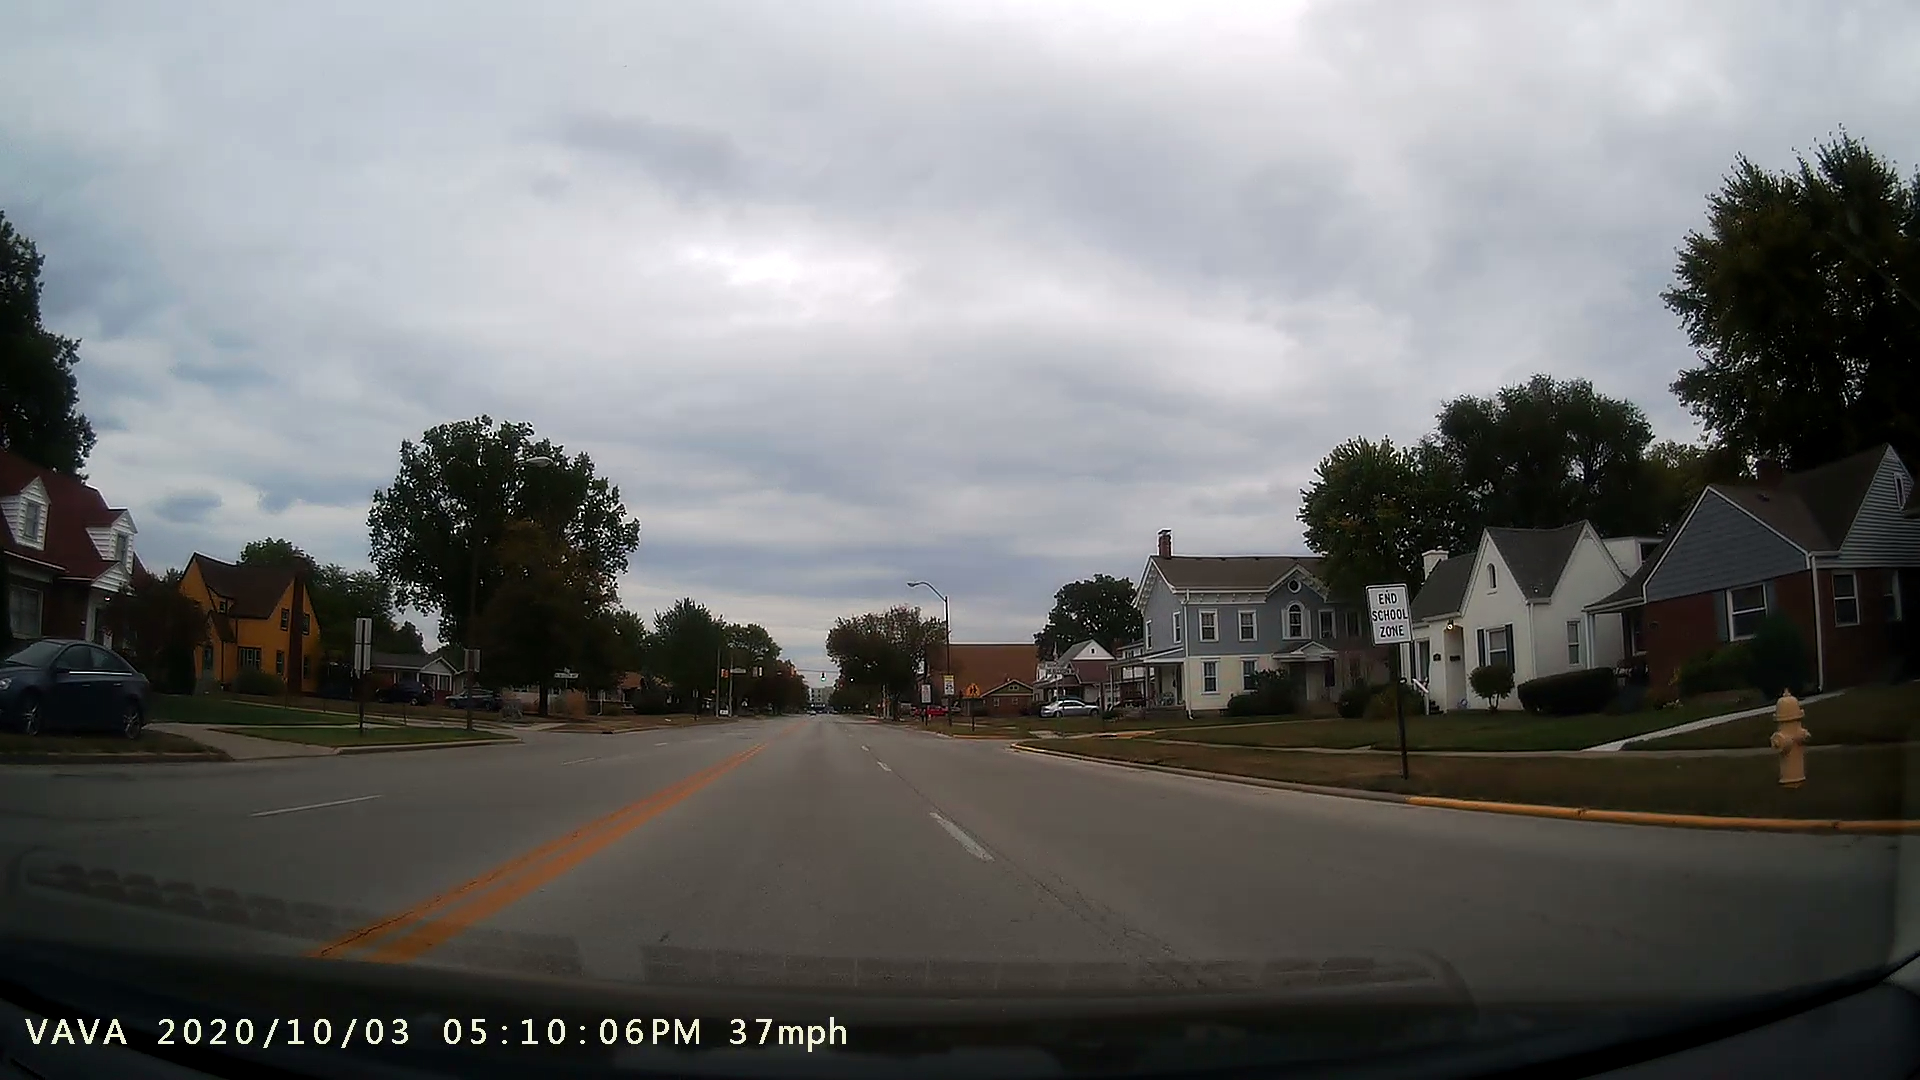fire_hydrant: (1749, 671, 1822, 804)
